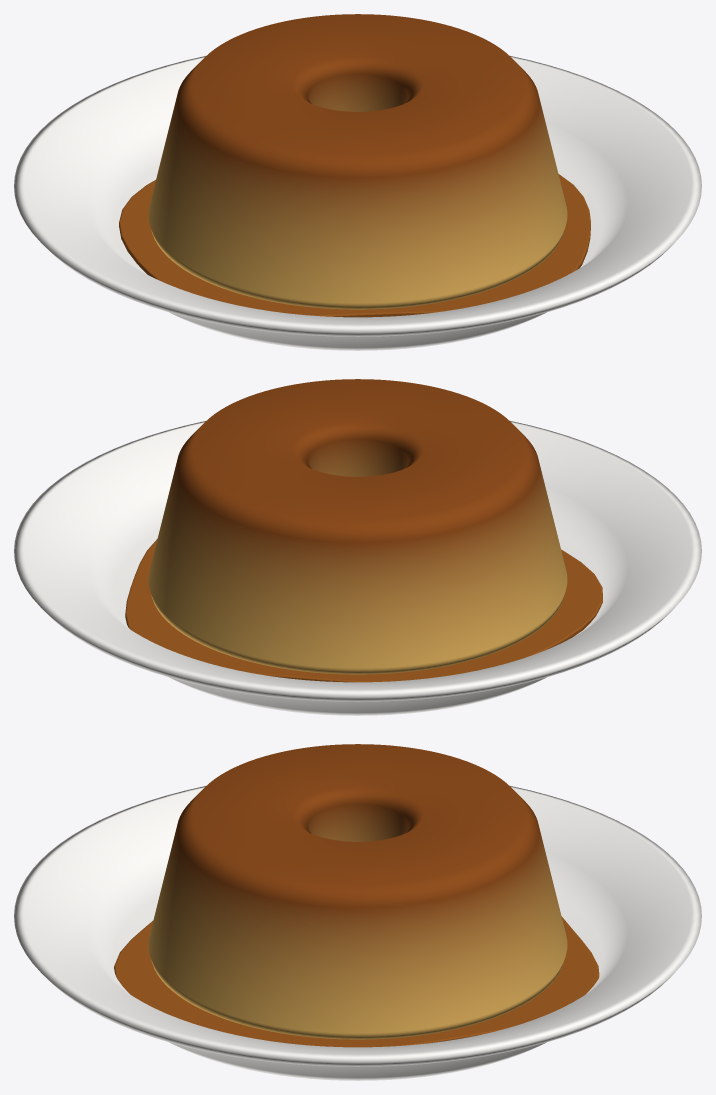
Rendered from pudim.glb.
3 views of the same model, one above another, from view 1: azimuth 30°, elevation 25°; view 2: azimuth 150°, elevation 25°; view 3: azimuth 270°, elevation 25° (orthographic).
Size of the model in its own units: 0.22 by 0.058 by 0.22.
